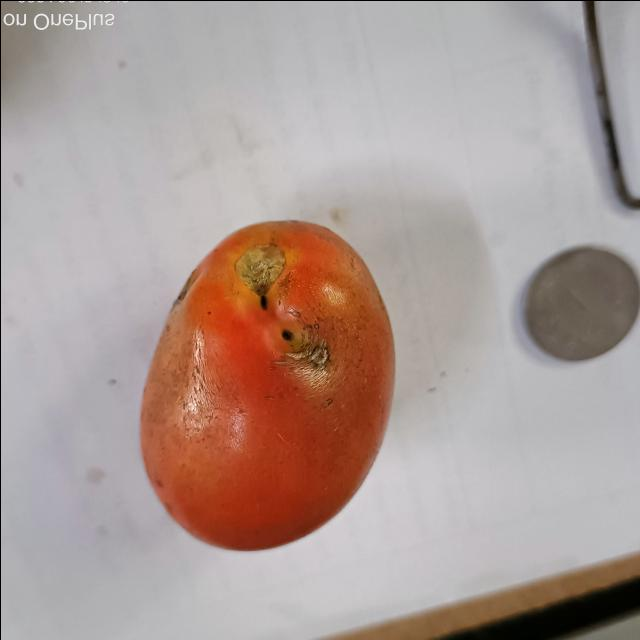Bacterial_Spot: (252, 288, 330, 388)
